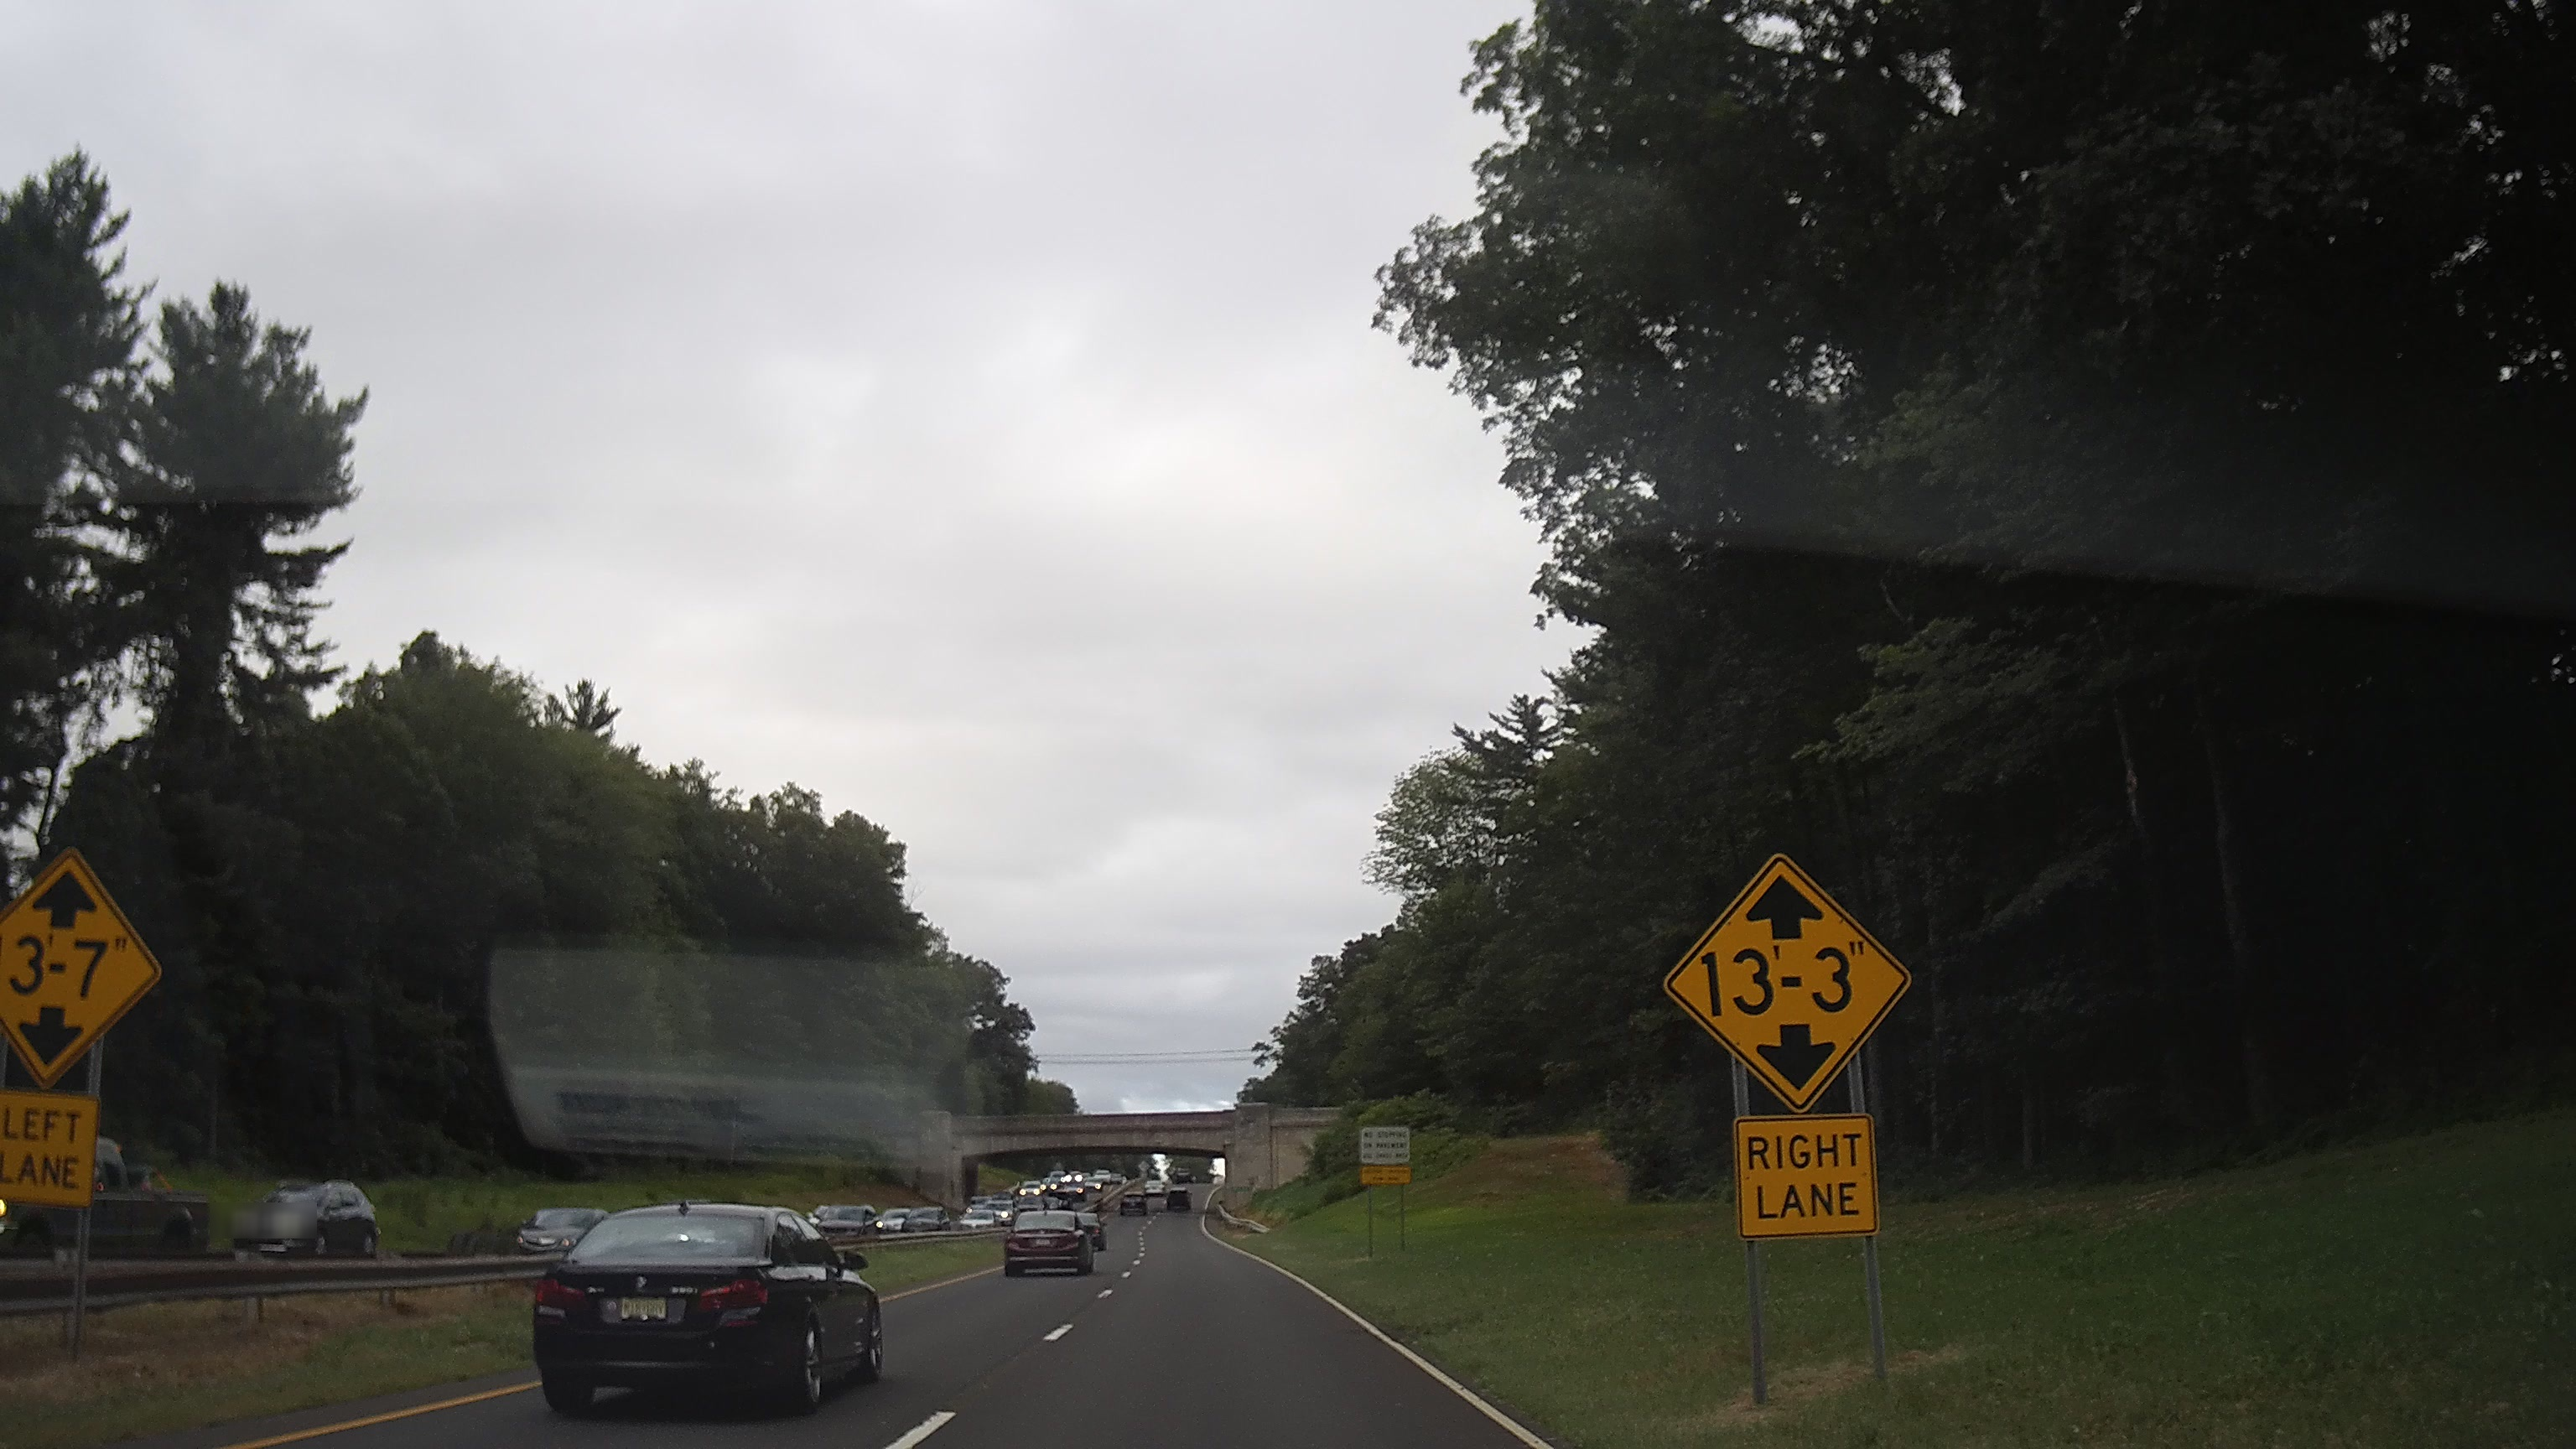low-clearance-sign: (1663, 853, 1913, 1113), (0, 846, 161, 1092)
